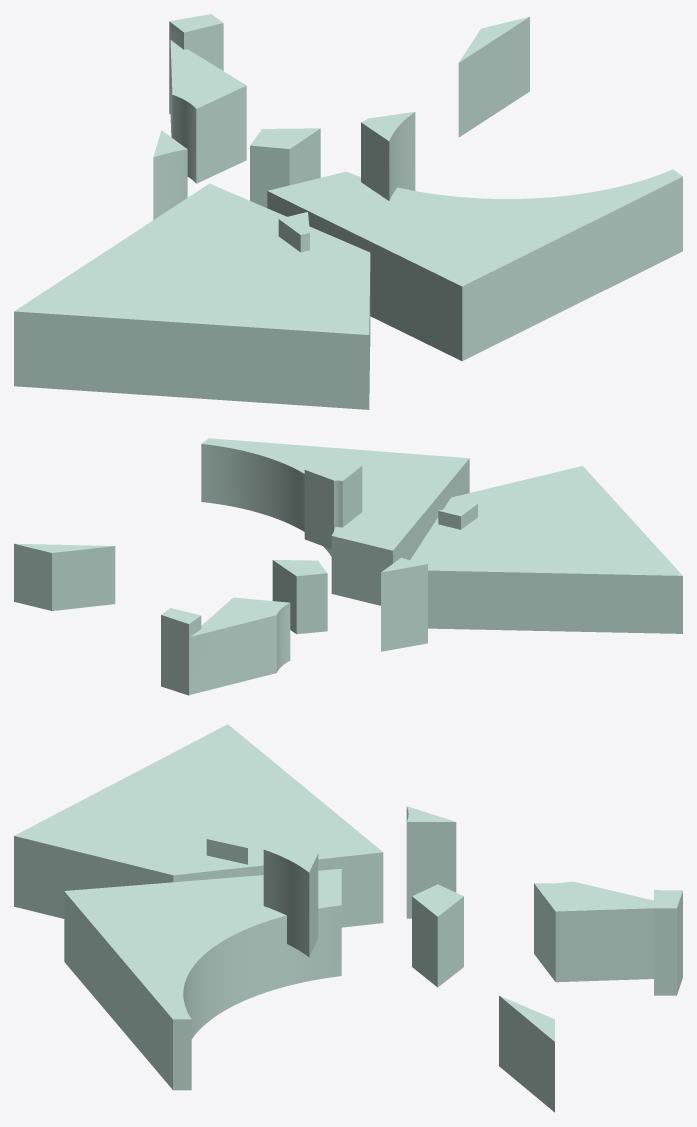
The picture shows the model from 3 angles, top to bottom: view 1: azimuth 30°, elevation 25°; view 2: azimuth 150°, elevation 25°; view 3: azimuth 270°, elevation 25°; orthographic projection. The views are drawn at different scales.
Visible parts, largest first — view 1: Renderer Node; view 2: Renderer Node; view 3: Renderer Node.
Boxes of the visible parts, left/top/right/bottom form: Renderer Node: left=14, top=14, right=682, bottom=409; Renderer Node: left=14, top=438, right=682, bottom=695; Renderer Node: left=14, top=724, right=682, bottom=1112.
Size of the model in its own units: 2.26 by 0.4219 by 2.01.
